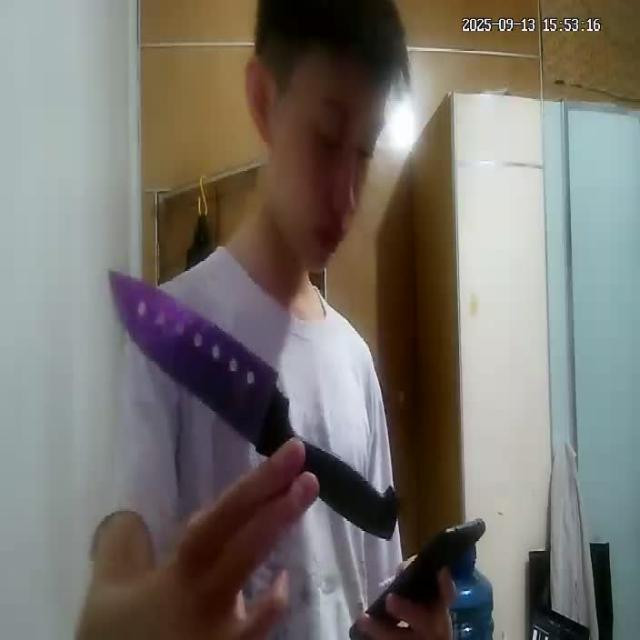senjata_tajam: (106, 267, 294, 452)
